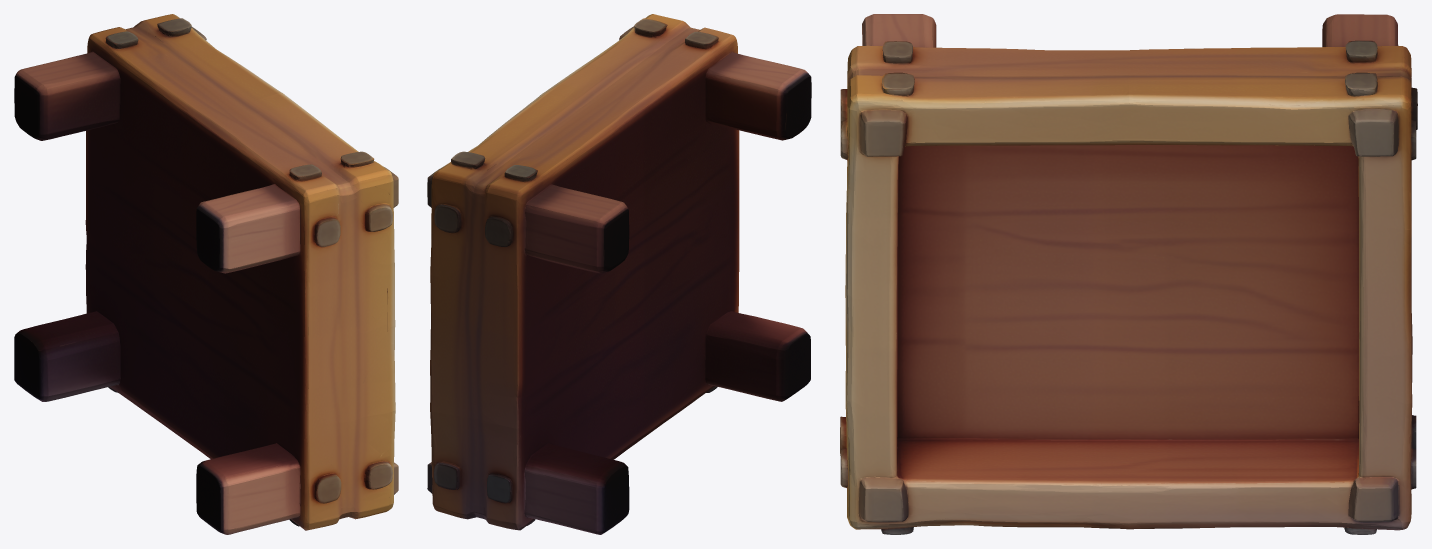
Rendered from trough_comfyui.glb.
3 views of the same model, side by side, from view 1: azimuth 30°, elevation 25°; view 2: azimuth 150°, elevation 25°; view 3: azimuth 270°, elevation 25° (orthographic). The views are drawn at different scales.
Size of the model in its own units: 0.4541 by 0.8487 by 0.9962.
1 material, 1 textured.
